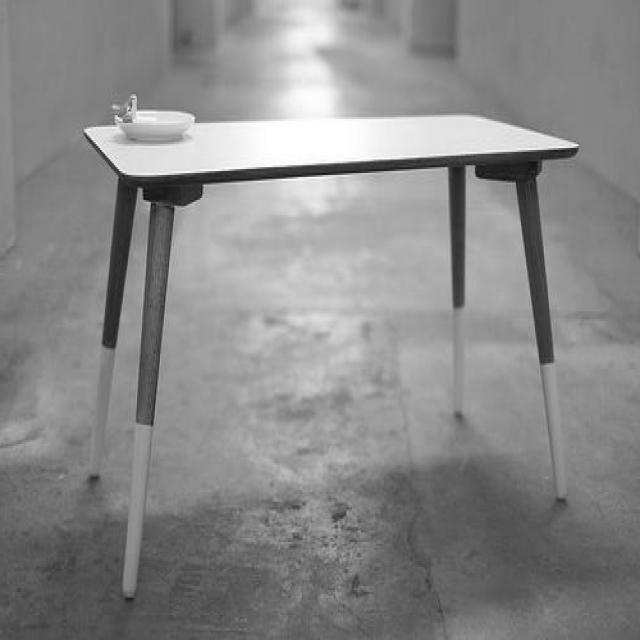table: (82, 87, 592, 602)
